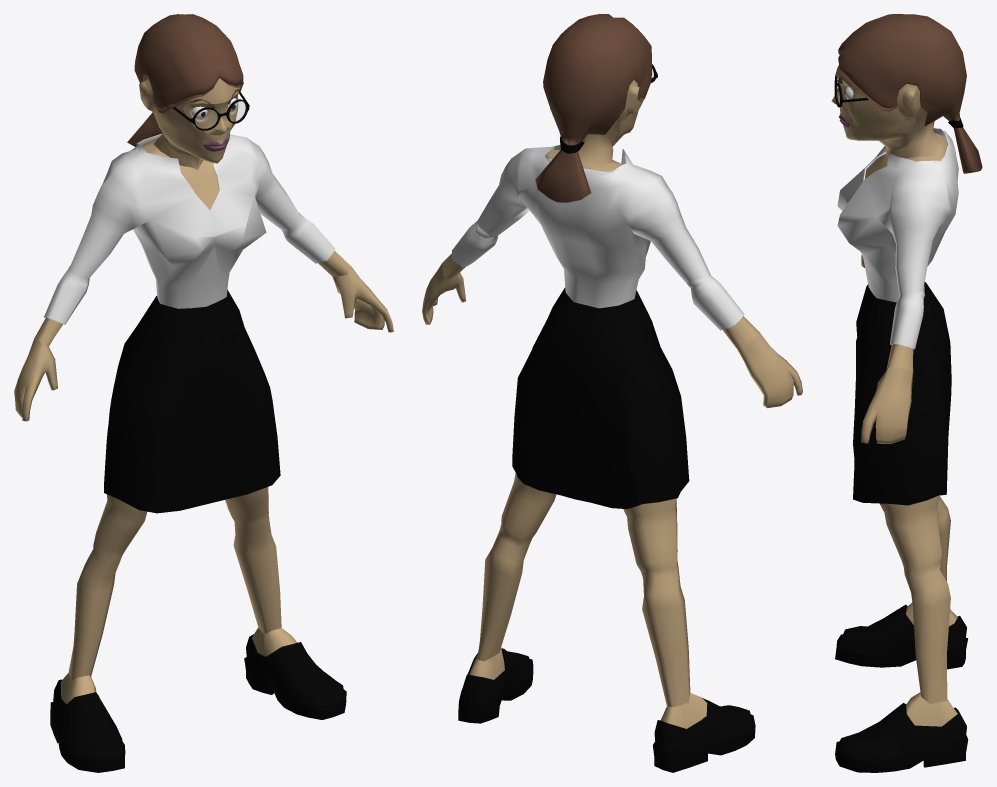
The model's file is teacherSeperated.fbx.
3 views of the same model, side by side, from view 1: azimuth 30°, elevation 25°; view 2: azimuth 150°, elevation 25°; view 3: azimuth 270°, elevation 25° (orthographic).
Visible parts, largest first — view 1: skirt, shirt, shoes, hair, rightLeg, leftLeg, leftHand, rightHand, rightCheek, upperBody, eyeGlasses, leftFoot (+2 smaller); view 2: skirt, shirt, hair, rightLeg, shoes, leftLeg, rightHand, neck, leftHand, rightFoot, leftFoot, rightArm; view 3: skirt, shirt, hair, shoes, leftLeg, leftHand, leftCheek, neck, leftFoot, rightLeg, leftEar, leftArm (+2 smaller).
Boxes of the visible parts, x1=… form: skirt: x1=104, y1=290, x2=280, y2=513; shirt: x1=44, y1=133, x2=335, y2=324; shoes: x1=50, y1=634, x2=346, y2=772; hair: x1=127, y1=14, x2=243, y2=146; rightLeg: x1=68, y1=494, x2=146, y2=680; leftLeg: x1=225, y1=487, x2=281, y2=634; leftHand: x1=332, y1=267, x2=393, y2=332; rightHand: x1=14, y1=338, x2=57, y2=421; rightCheek: x1=153, y1=105, x2=202, y2=158; upperBody: x1=141, y1=137, x2=219, y2=209; eyeGlasses: x1=173, y1=91, x2=249, y2=130; leftFoot: x1=252, y1=627, x2=297, y2=656; skirt: x1=512, y1=287, x2=689, y2=509; shirt: x1=452, y1=145, x2=744, y2=330; hair: x1=535, y1=14, x2=651, y2=202; rightLeg: x1=623, y1=498, x2=690, y2=707; shoes: x1=458, y1=648, x2=755, y2=772; leftLeg: x1=477, y1=473, x2=556, y2=661; rightHand: x1=738, y1=333, x2=802, y2=408; neck: x1=578, y1=110, x2=625, y2=168; leftHand: x1=422, y1=263, x2=465, y2=324; rightFoot: x1=660, y1=693, x2=707, y2=728; leftFoot: x1=469, y1=647, x2=504, y2=679; rightArm: x1=723, y1=316, x2=759, y2=349; skirt: x1=853, y1=282, x2=951, y2=505; shirt: x1=837, y1=127, x2=958, y2=349; hair: x1=838, y1=14, x2=982, y2=173; shoes: x1=835, y1=604, x2=968, y2=772; leftLeg: x1=880, y1=495, x2=950, y2=703; leftHand: x1=861, y1=367, x2=913, y2=443; leftCheek: x1=847, y1=95, x2=916, y2=140; neck: x1=879, y1=107, x2=942, y2=158; leftFoot: x1=906, y1=692, x2=957, y2=726; rightLeg: x1=936, y1=495, x2=950, y2=581; leftEar: x1=897, y1=83, x2=920, y2=118; leftArm: x1=886, y1=344, x2=913, y2=372.
Bounding box in the file's own units: 49.03 × 88.72 × 17.56.
